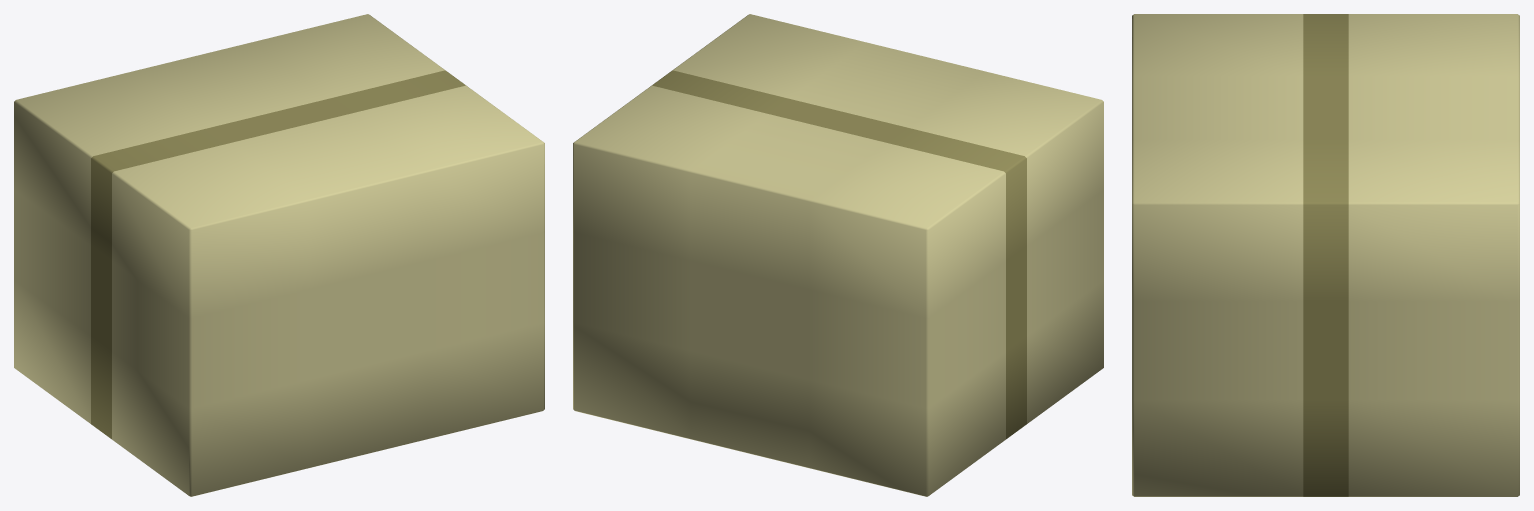
Rendered from package01.fbx.
The picture shows the model from 3 angles, left to right: view 1: azimuth 30°, elevation 25°; view 2: azimuth 150°, elevation 25°; view 3: azimuth 270°, elevation 25°; orthographic projection. The views are drawn at different scales.
Parts seen in each view (by area): view 1: Cube; view 2: Cube; view 3: Cube.
Part boxes in pixels (bbox=[...]): Cube: bbox=[14, 14, 544, 496]; Cube: bbox=[573, 14, 1103, 496]; Cube: bbox=[1132, 14, 1519, 496].
Size of the model in its own units: 72 by 52 by 62.
